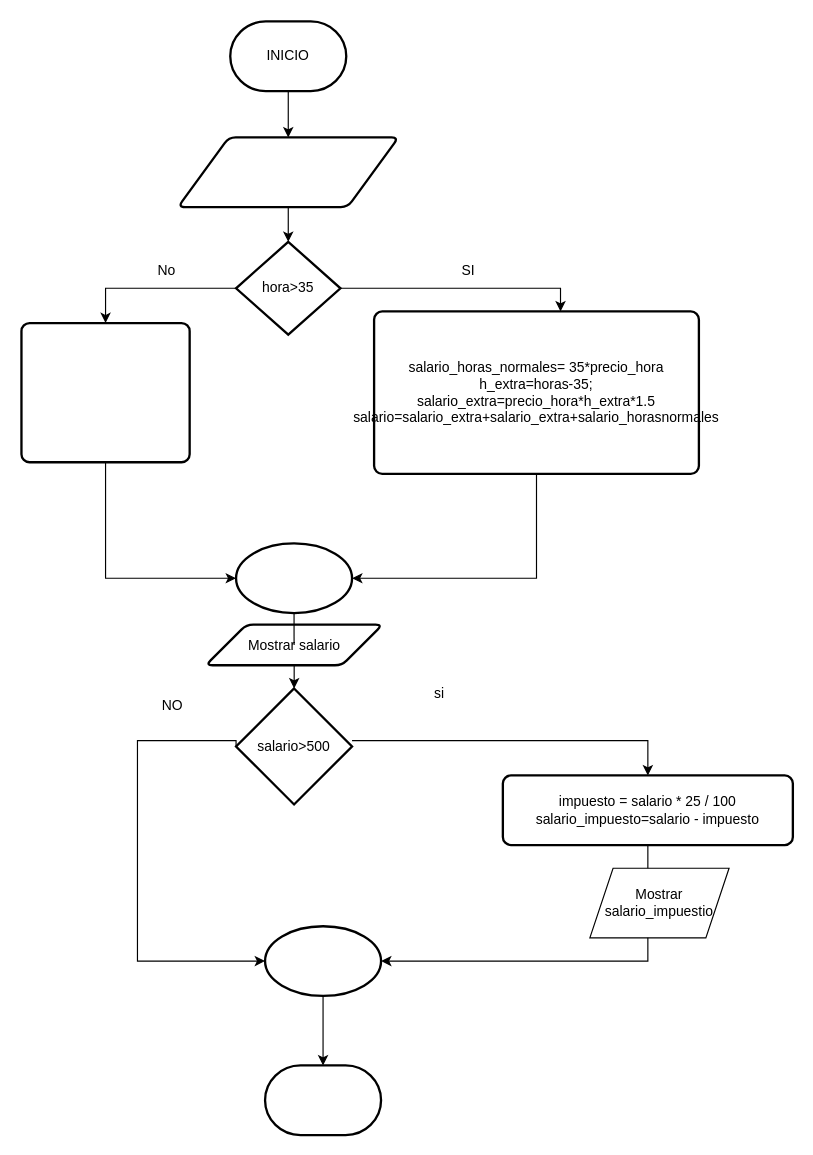
The diagram is 813 pixels wide and 1155 high, and some of its shapes have lost their labels. The shapes that lost their labels are listed below. From the top down, each one's centre as x and y in pixels, then its label:
At [287,172]: "Leer horas, precio_hora".
At [105,392]: "salario = horas*precio_hora".
At [322,1100]: "FINAL".
